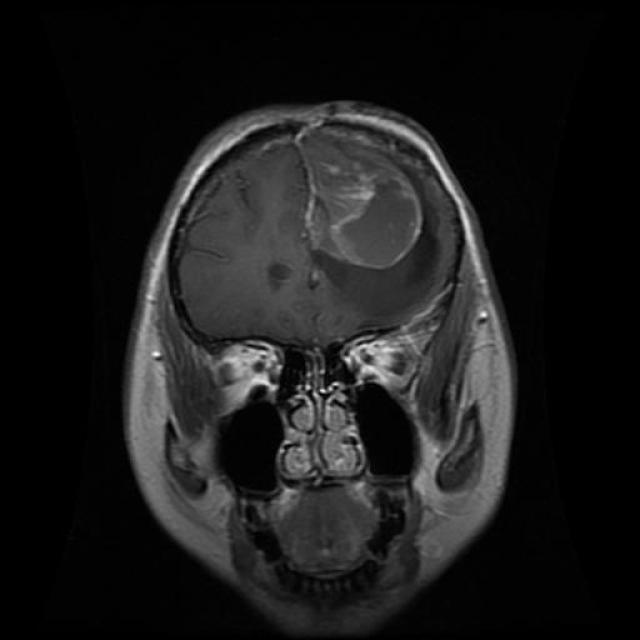glioma: (296, 126, 428, 276)
